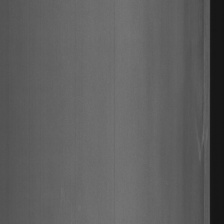silk_spot: (190, 11, 209, 174)
